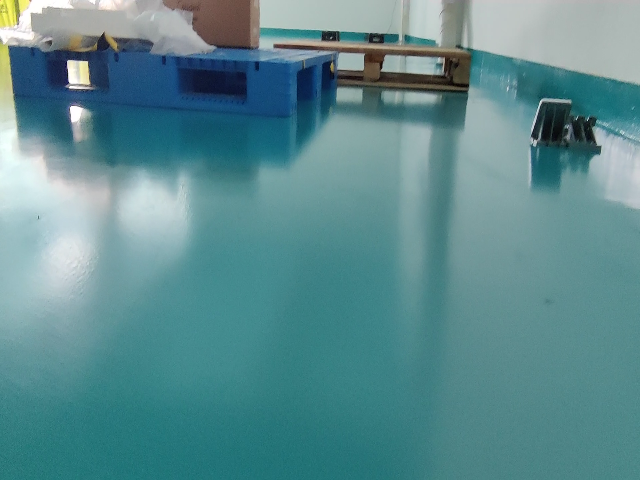block: (107, 49, 178, 107), (246, 61, 299, 117), (7, 46, 47, 96), (330, 52, 340, 89), (313, 56, 322, 97)
front: (287, 53, 341, 115)
hole pallet: (297, 66, 315, 109), (322, 60, 336, 93)
